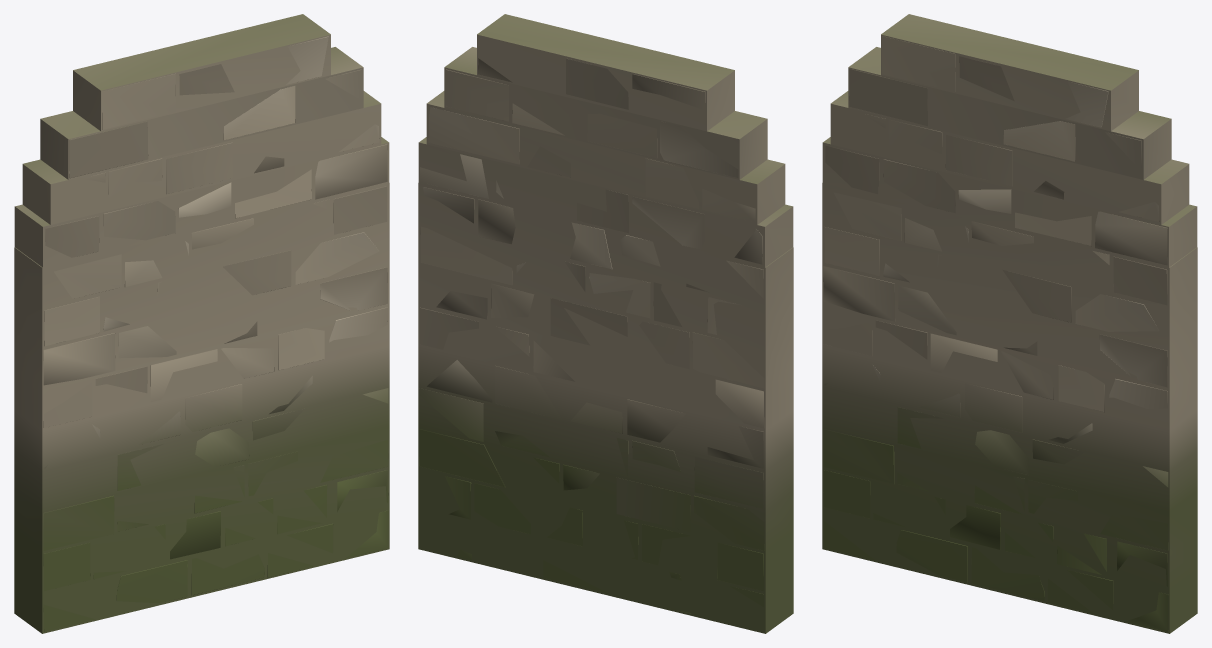
The model's file is citadel_blocking.glb.
The picture shows the model from 3 angles, left to right: view 1: azimuth 30°, elevation 25°; view 2: azimuth 150°, elevation 25°; view 3: azimuth 330°, elevation 25°; orthographic projection.
Parts seen in each view (by area): view 1: citadel_blocking_far, citadel_blocking; view 2: citadel_blocking_far, citadel_blocking; view 3: citadel_blocking_far, citadel_blocking.
Boxes of the visible parts, x1=… form: citadel_blocking_far: x1=14, y1=14, x2=389, y2=633; citadel_blocking: x1=43, y1=36, x2=388, y2=631; citadel_blocking_far: x1=418, y1=14, x2=793, y2=633; citadel_blocking: x1=419, y1=58, x2=764, y2=615; citadel_blocking_far: x1=822, y1=14, x2=1197, y2=633; citadel_blocking: x1=823, y1=36, x2=1168, y2=632.
Bounding box in the file's own units: 14.3 × 20.8 × 2.02.
